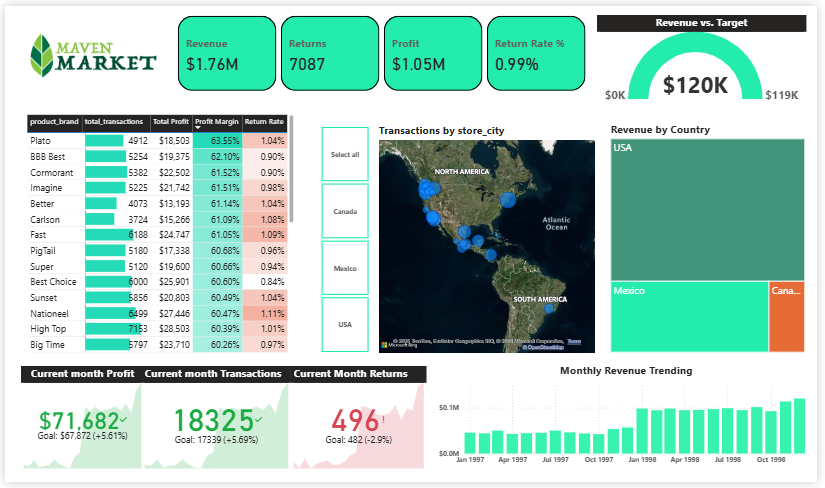

What the dashboard file says about the page in this screenshot:
{"tool":"powerbi","page":{"name":"Dashboard","canvas":[1450,850],"ordinal":0},"visuals":[{"type":"image","box":[34,0,246,176],"z":0},{"type":"cardVisual","fields":{"Data":["All Measures.Total Revenue","All Measures.Total Returns","All Measures.Total Profit","All Measures.Return Rate %"]},"box":[304,12,738,144],"z":1000},{"type":"tableEx","fields":{"Values":["Products.product_brand","All Measures.Total Transactions","All Measures.Total Profit","All Measures.Profit Margin %","All Measures.Return Rate %"]},"box":[34.3,190,487.1,434.3],"z":2000},{"type":"slicer","fields":{"Values":["Stores.country"]},"box":[540,208.6,134.3,415.7],"z":3000},{"type":"kpi","title":"Current month Profit","fields":{"TrendLine":["Calender.Start of Month"],"Indicator":["All Measures.Total Profit"],"Goal":["All Measures.Last Month Profit"]},"box":[28,642,220,188],"z":4000},{"type":"kpi","title":"Current month Transactions","fields":{"Indicator":["All Measures.Total Transactions"],"Goal":["All Measures.Last Month Transactions"],"TrendLine":["Calender.Start of Month"]},"box":[244,642,266,188],"z":5000},{"type":"kpi","title":"Current Month Returns","fields":{"Indicator":["All Measures.Total Returns"],"Goal":["All Measures.Last Month Returns"],"TrendLine":["Calender.Start of Month"]},"box":[510,642,242,188],"z":6000},{"type":"treemap","title":"Revenue by Country","fields":{"Group":["Stores.country","Stores.state","Stores.city"],"Values":["All Measures.Total Revenue"]},"box":[1076,208,356,416],"z":7000},{"type":"gauge","title":"Revenue vs. Target","fields":{"Y":["All Measures.Total Revenue"],"MaxValue":["All Measures.Revenue Target"]},"box":[1058,16,374,160],"z":8000},{"type":"columnChart","title":"Monthly Revenue Trending","fields":{"Y":["All Measures.Total Revenue"],"Category":["Calender.Start of Month"]},"box":[770,638.3,680,191.7],"z":9000},{"type":"map","title":"Transactions by store_city","fields":{"Category":["Stores.city"],"Size":["All Measures.Total Transactions"]},"box":[662.3,208.7,395.7,415.9],"z":10000}]}

Visuals, with their boxes in screenshot pixels (x1, y1, x2, y2), scaled from the page's 1450x850 canvas onto the 825x488 screenshot:
image: BBox(19, 0, 159, 101)
cardVisual - All Measures.Total Revenue x All Measures.Total Returns: BBox(173, 7, 593, 90)
tableEx - Products.product_brand x All Measures.Total Transactions: BBox(20, 109, 297, 358)
slicer - Stores.country: BBox(307, 120, 384, 358)
"Current month Profit" kpi: BBox(16, 369, 141, 477)
"Current month Transactions" kpi: BBox(139, 369, 290, 477)
"Current Month Returns" kpi: BBox(290, 369, 428, 477)
"Revenue by Country" treemap: BBox(612, 119, 815, 358)
"Revenue vs. Target" gauge: BBox(602, 9, 815, 101)
"Monthly Revenue Trending" columnChart: BBox(438, 366, 824, 477)
"Transactions by store_city" map: BBox(377, 120, 602, 359)
